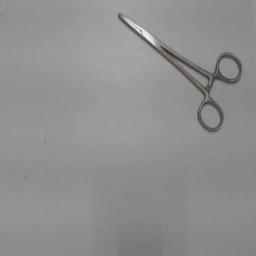Mayo Needle Holder: (102, 4, 246, 142)
